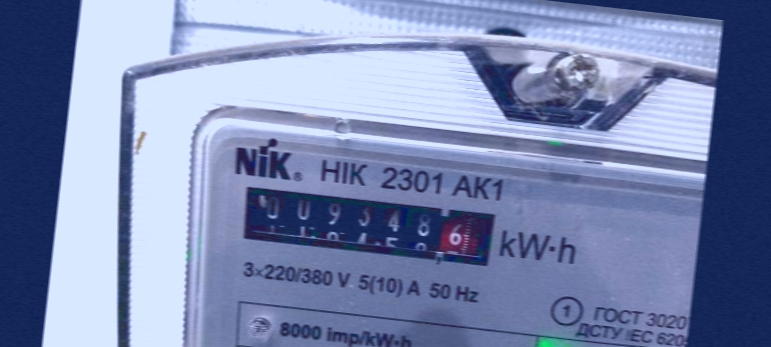0: (264, 191, 280, 218), (295, 194, 312, 219)
3: (355, 200, 372, 227)
4: (385, 203, 402, 232)
6: (445, 217, 465, 246)
8: (414, 208, 432, 237)
9: (324, 197, 342, 225)
screen: (230, 175, 505, 274)
